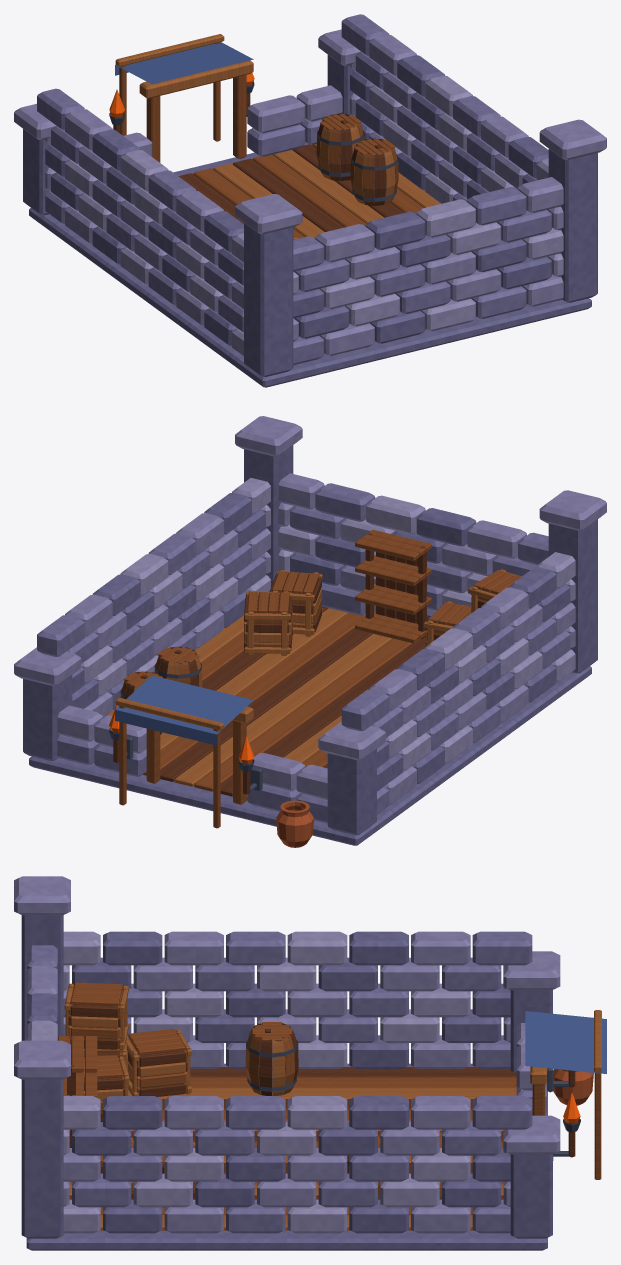
The model's file is Building_Storehouse.obj.
3 views of the same model, one above another, from view 1: azimuth 30°, elevation 25°; view 2: azimuth 150°, elevation 25°; view 3: azimuth 270°, elevation 25° (orthographic). The views are drawn at different scales.
Parts seen in each view (by area): view 1: Rear_masonry, West_masonry, East_masonry, Corner_piers, Floor_planks, Foundation, Pier_caps, Low_front_wall, Street_awning_Canvas, Barrel_0_Oak_staves, Entrance_posts, Barrel_1_Oak_staves (+5 smaller); view 2: West_masonry, East_masonry, Floor_planks, Rear_masonry, Corner_piers, Foundation, Low_front_wall, Pier_caps, Storage_shelf_Shelves, Street_awning_Canvas, Entrance_posts, Street_jar_Hollow_jar (+13 smaller); view 3: East_masonry, West_masonry, Corner_piers, Floor_planks, Foundation, Pier_caps, Street_awning_Canvas, Rear_masonry, Barrel_2_Oak_staves, Crate_2_Planked_sides, Stacked_crate_Planked_sides, Storage_shelf_Shelves (+9 smaller).
Part boxes in pixels (box(x1,y1,x2,y2)): Rear_masonry: box(293, 177, 563, 365); West_masonry: box(37, 88, 243, 356); East_masonry: box(341, 14, 548, 203); Corner_piers: box(23, 55, 597, 376); Floor_planks: box(178, 144, 476, 329); Foundation: box(29, 142, 591, 387); Pier_caps: box(14, 29, 606, 234); Low_front_wall: box(124, 85, 342, 156); Street_awning_Canvas: box(115, 42, 253, 84); Barrel_0_Oak_staves: box(350, 138, 398, 205); Entrance_posts: box(146, 75, 246, 162); Barrel_1_Oak_staves: box(316, 113, 364, 180); West_masonry: box(341, 552, 575, 814); East_masonry: box(37, 478, 270, 717); Floor_planks: box(104, 606, 426, 799); Rear_masonry: box(278, 473, 548, 620); Corner_piers: box(23, 445, 597, 835); Foundation: box(29, 613, 591, 845); Low_front_wall: box(57, 705, 327, 823); Pier_caps: box(14, 416, 606, 760); Storage_shelf_Shelves: box(355, 529, 431, 643); Street_awning_Canvas: box(115, 675, 253, 734); Entrance_posts: box(146, 720, 246, 804); Street_jar_Hollow_jar: box(276, 800, 313, 847); East_masonry: box(63, 1096, 532, 1233); West_masonry: box(63, 931, 532, 1068); Corner_piers: box(21, 915, 552, 1238); Floor_planks: box(69, 1067, 516, 1230); Foundation: box(26, 1063, 547, 1250); Pier_caps: box(14, 876, 560, 1154); Street_awning_Canvas: box(525, 1011, 606, 1073); Rear_masonry: box(27, 945, 57, 1040); Barrel_2_Oak_staves: box(245, 1023, 298, 1095); Crate_2_Planked_sides: box(128, 1038, 187, 1096); Stacked_crate_Planked_sides: box(68, 986, 122, 1049); Storage_shelf_Shelves: box(58, 1036, 97, 1131).
Bounding box in the file's own units: 8.9 × 4.28 × 11.83.
12 materials, 12 textured.
